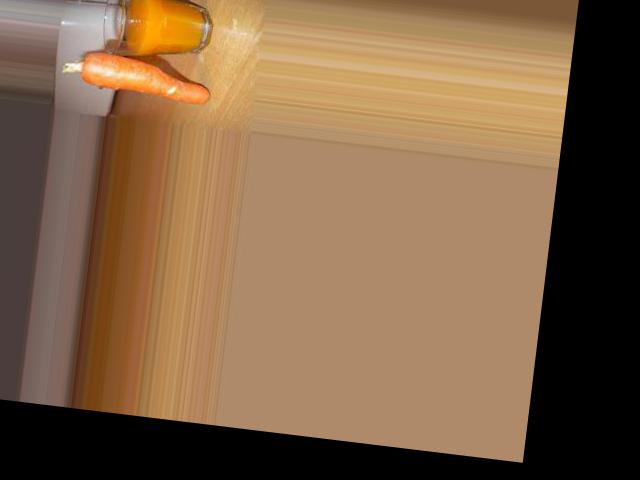carrot: (71, 43, 220, 111)
